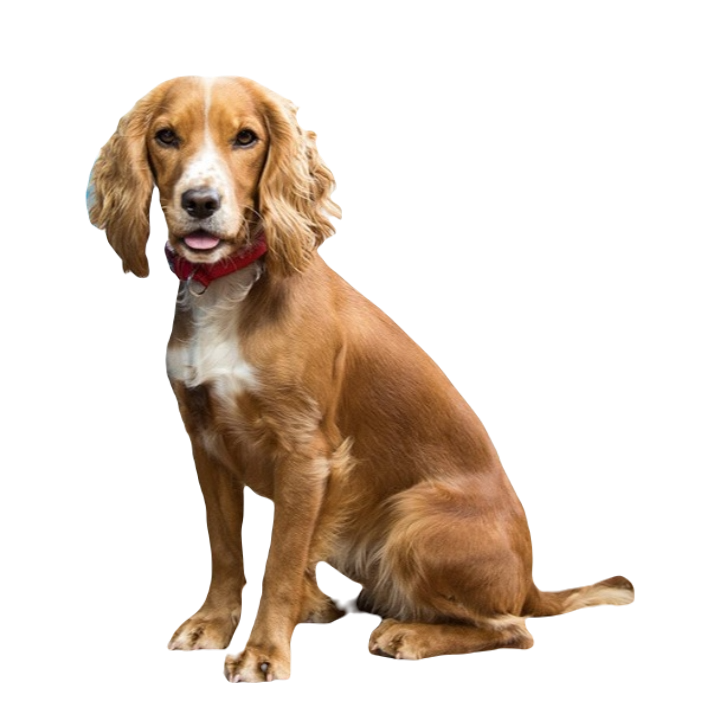Dog: (73, 73, 637, 680)
